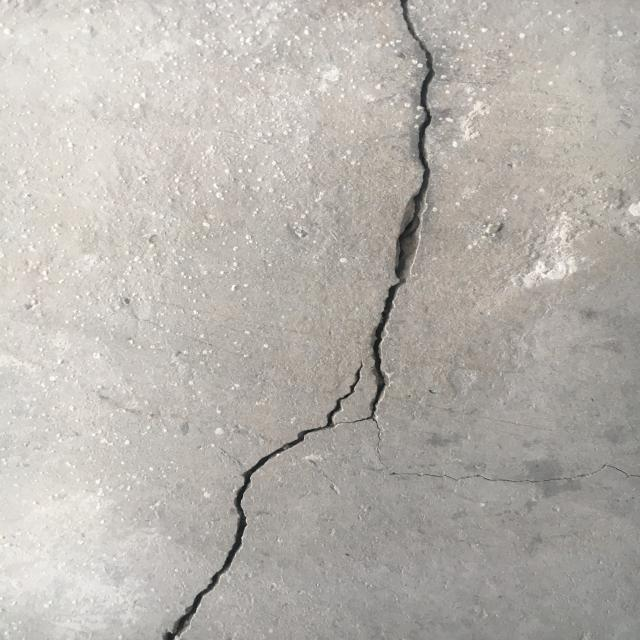SurfaceCrack: (80, 1, 481, 640)
